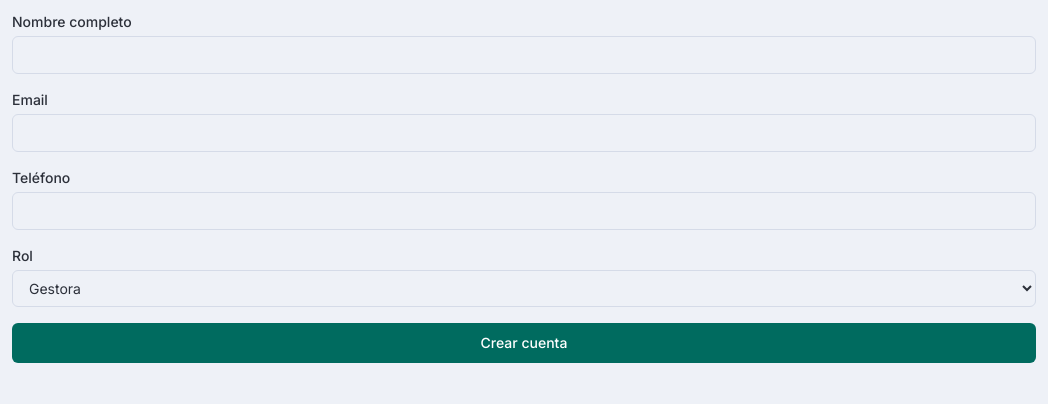
CreateUserForm (R4.1, R4.2, R4.3, R4.5, design D5, D6) › shows per-field errors from a 422 response
Step 1. Type "Persona Nueva" into the field labelled "Nombre completo" → coordinates (524, 55), box [12, 36, 1036, 74]
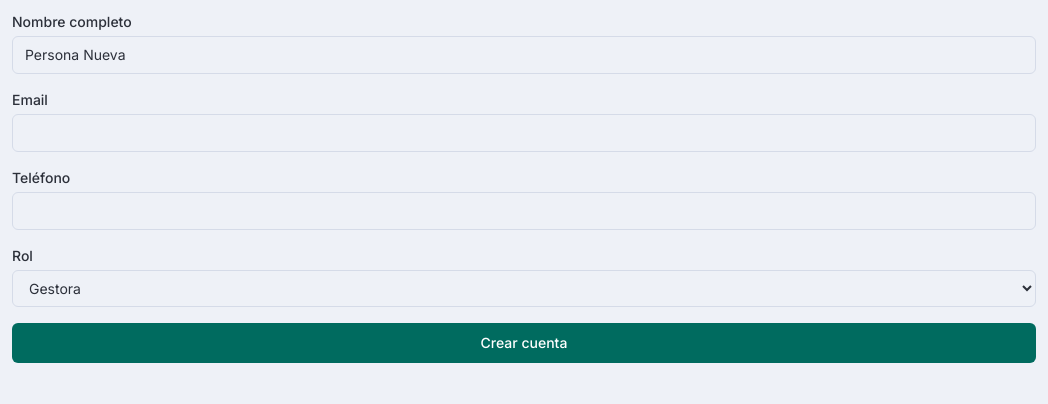
Step 2. Type "new@example.com" into the field labelled "Email" → coordinates (524, 133), box [12, 114, 1036, 152]
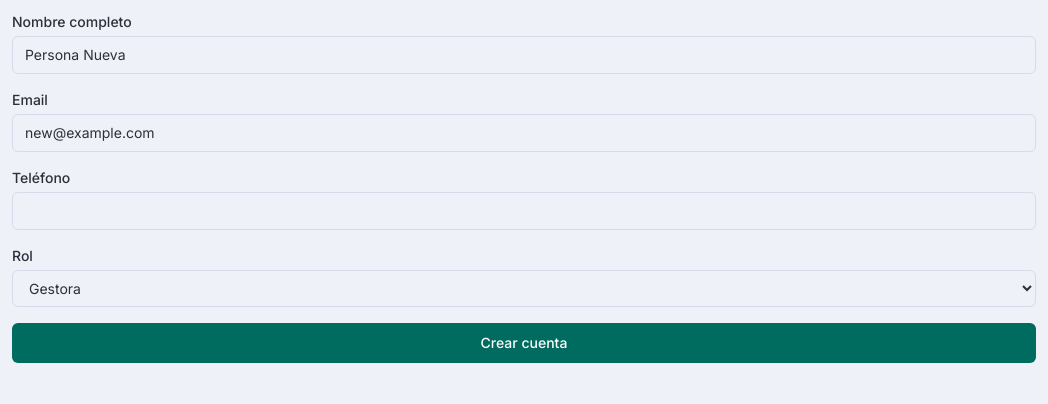
Step 3. Click the button "Crear cuenta" → coordinates (524, 343), box [12, 323, 1036, 363]
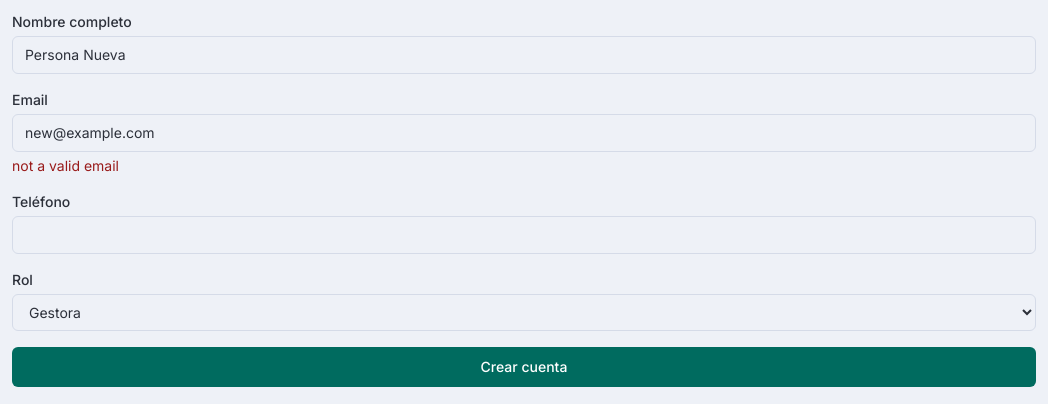
Now the text "not a valid email" is shown, box [12, 157, 119, 174]
